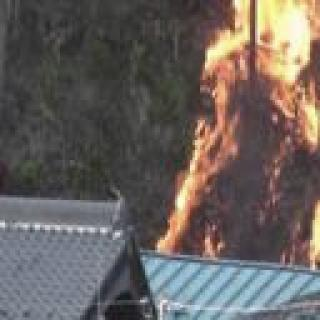fire: (166, 0, 320, 268)
